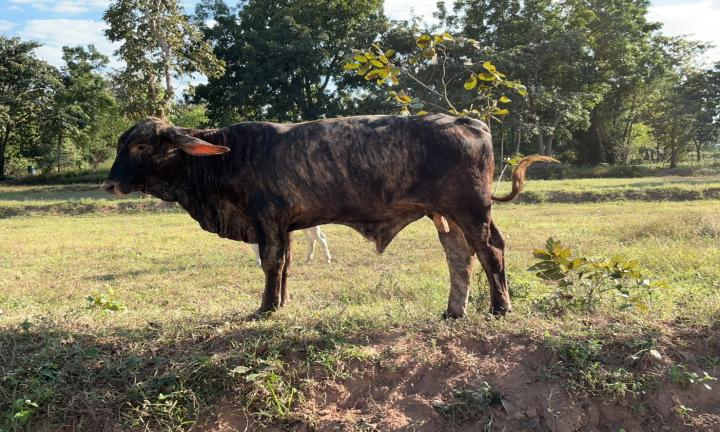Charolais: (103, 113, 552, 318)
